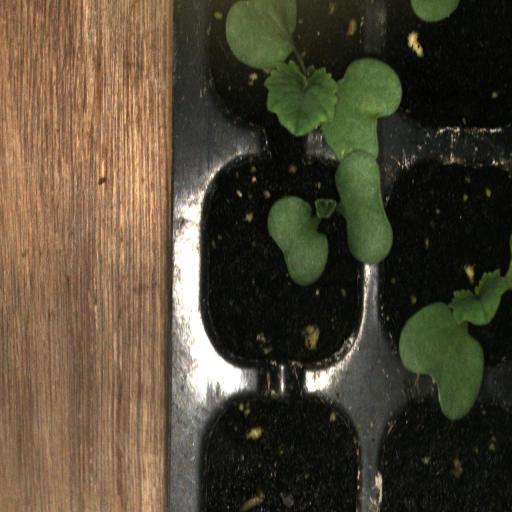seedling: (190, 145, 371, 389), (371, 144, 512, 382), (190, 0, 368, 149)
